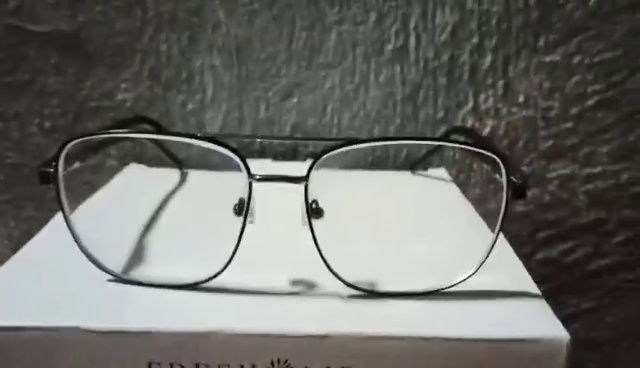glasses: (40, 118, 526, 301)
